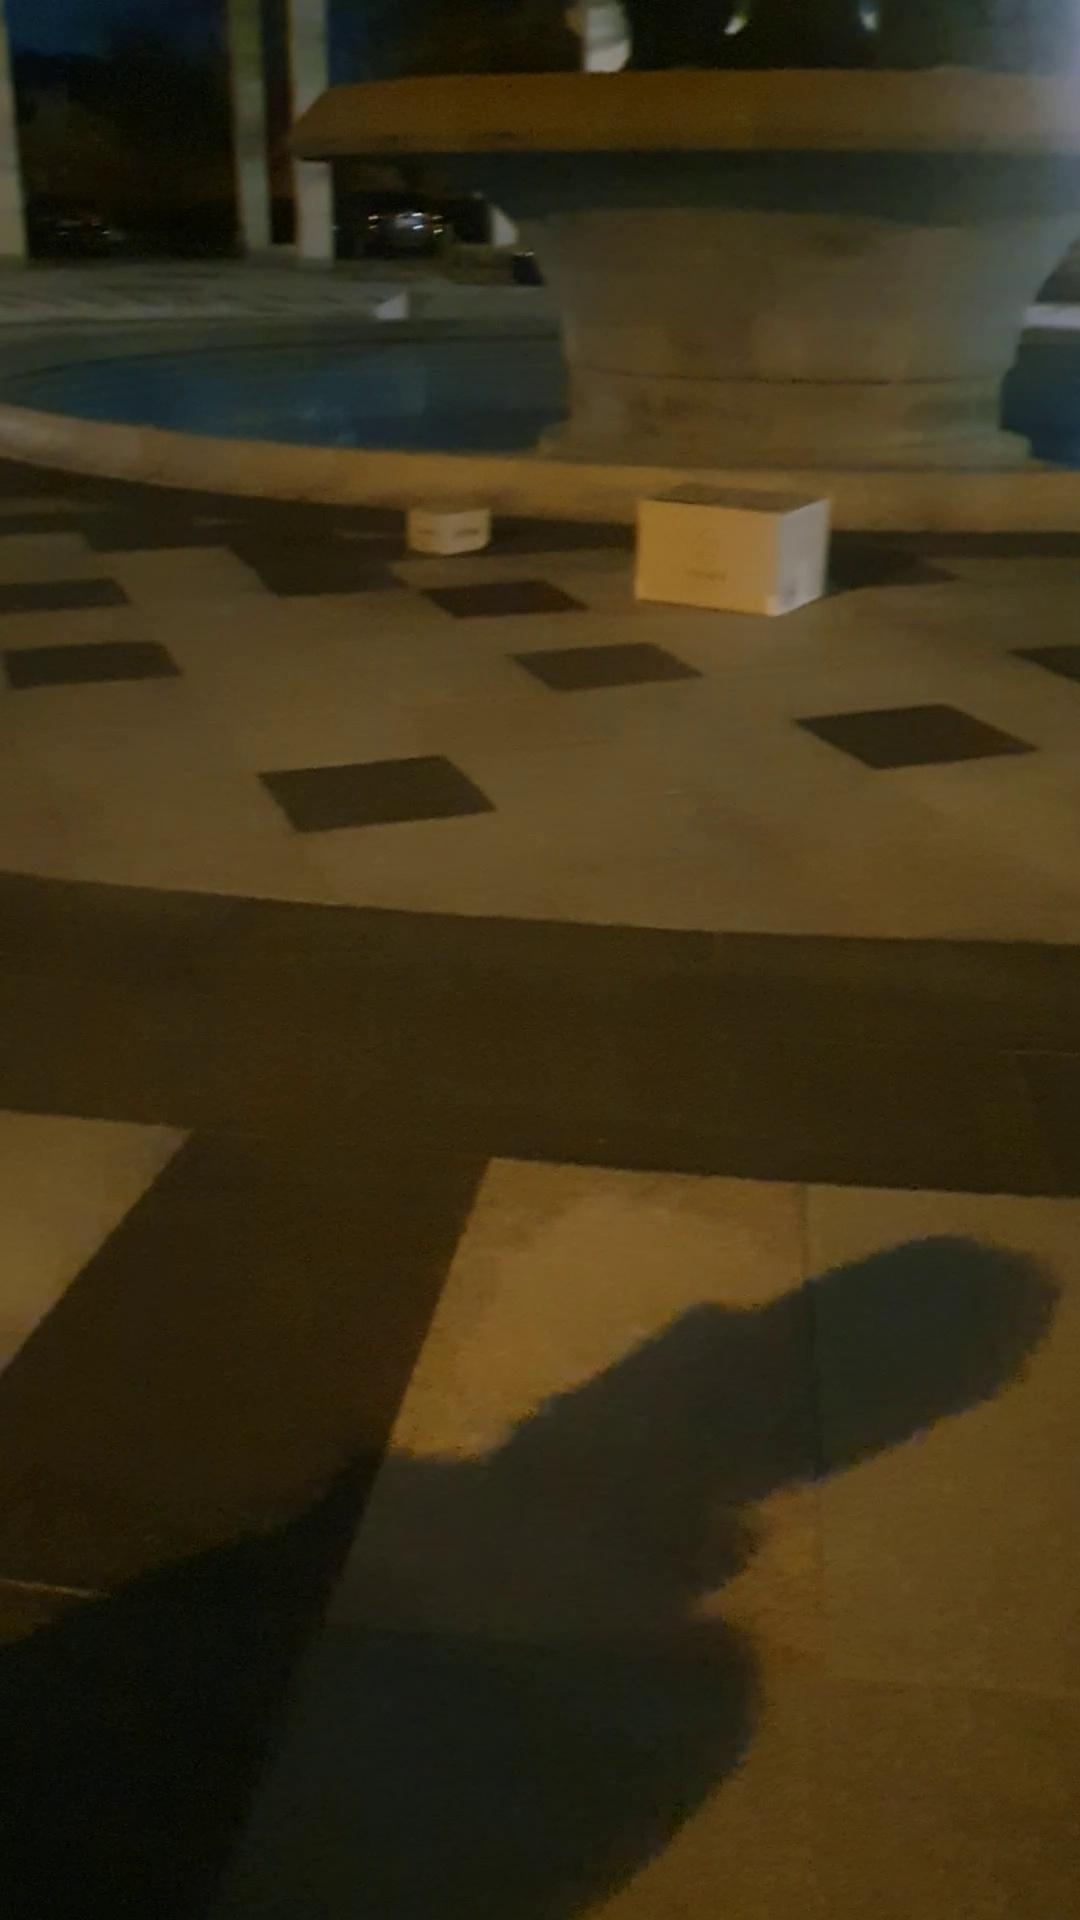Box: (611, 477, 855, 655), (371, 463, 530, 600)
